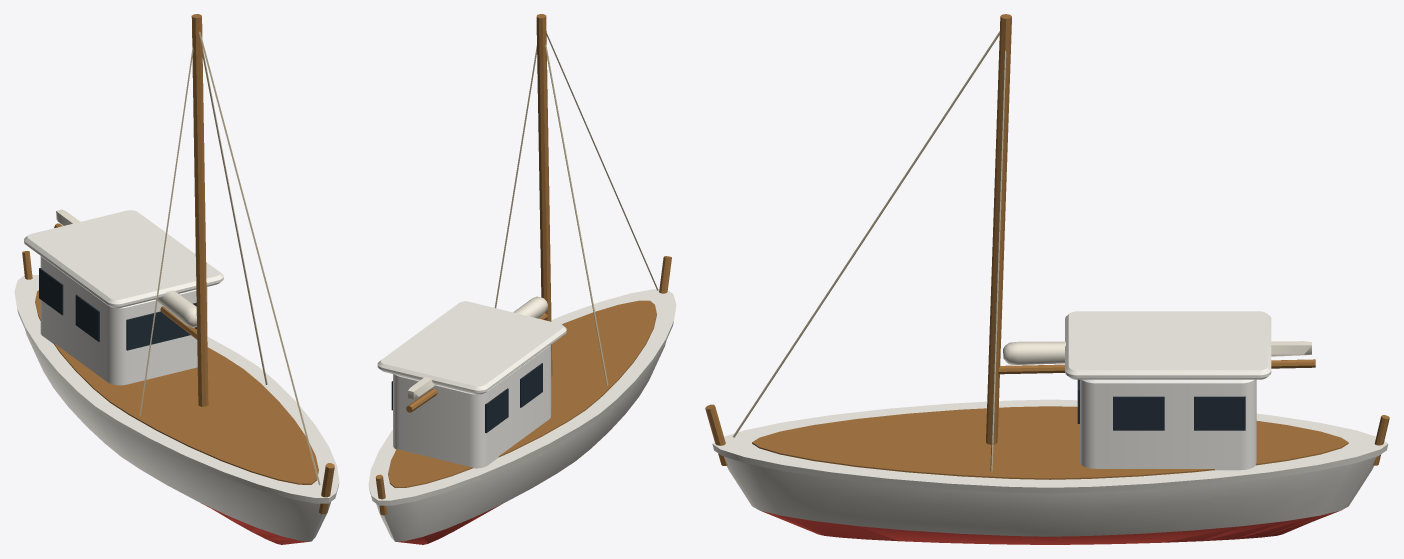
Rendered from boat-cruise.glb.
3 renders of one model, left to right at view 1: azimuth 30°, elevation 25°; view 2: azimuth 150°, elevation 25°; view 3: azimuth 270°, elevation 25°, orthographic. The views are drawn at different scales.
Parts seen in each view (by area): view 1: wood3, trim7, hull1, trim2, cabin6, wood13, pane12, rope17, sail18, rope16, pane8, pane9 (+3 smaller); view 2: wood3, trim7, cabin6, hull1, trim2, wood13, sail18, rope15, pane8, pane9, rope16, rope17 (+1 smaller); view 3: hull1, wood3, trim7, trim2, cabin6, red0, wood13, sail18, pane10, pane11, rope17, rope16 (+1 smaller).
Part boxes in pixels (x1,y1,x2,y2): wood3: (35, 290, 318, 484); trim7: (24, 210, 223, 308); hull1: (25, 330, 330, 541); trim2: (14, 275, 339, 503); cabin6: (40, 256, 207, 385); wood13: (191, 14, 208, 406); pane12: (126, 302, 196, 350); rope17: (199, 31, 320, 485); sail18: (56, 209, 196, 327); rope16: (202, 48, 267, 384); pane8: (39, 268, 63, 315); pane9: (75, 294, 99, 341); wood3: (388, 300, 656, 487); trim7: (377, 301, 566, 394); cabin6: (393, 345, 551, 468); hull1: (376, 341, 666, 541); trim2: (368, 289, 676, 505); wood13: (536, 14, 552, 376); sail18: (408, 296, 547, 399); rope15: (545, 44, 608, 385); pane8: (485, 388, 508, 433); pane9: (520, 363, 542, 407); rope16: (494, 45, 536, 308); rope17: (546, 33, 658, 290); hull1: (724, 456, 1376, 536); wood3: (752, 406, 1348, 479); trim7: (1065, 311, 1271, 379); trim2: (712, 399, 1388, 493); cabin6: (1080, 379, 1256, 470); red0: (760, 510, 1339, 544); wood13: (986, 14, 1011, 444); sail18: (1003, 341, 1311, 364); pane10: (1194, 396, 1245, 430); pane11: (1113, 396, 1164, 430); rope17: (733, 31, 1000, 437); rope16: (990, 50, 1006, 471).
Size of the model in its own units: 2.84 by 7.76 by 9.3.
